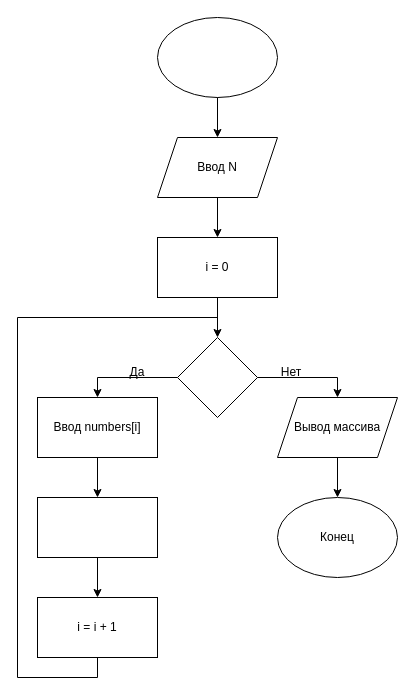
Some shapes in this 415 by 696 pixel diagram are drawn without their labels. The box of each missing label's shape, as (x1, y1, x2, y2) in pixels:
i < n?: (176, 336, 258, 418)
numbers[i] *= numbers[i]: (36, 496, 158, 558)
Начало: (156, 16, 278, 98)
